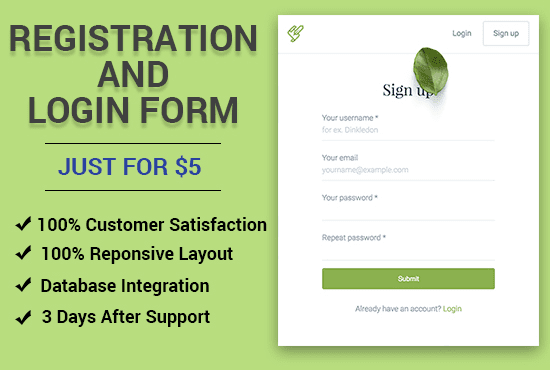button: (318, 265, 501, 299)
textbox: (321, 202, 507, 226), (321, 241, 515, 263), (318, 162, 501, 183), (318, 123, 498, 144)
